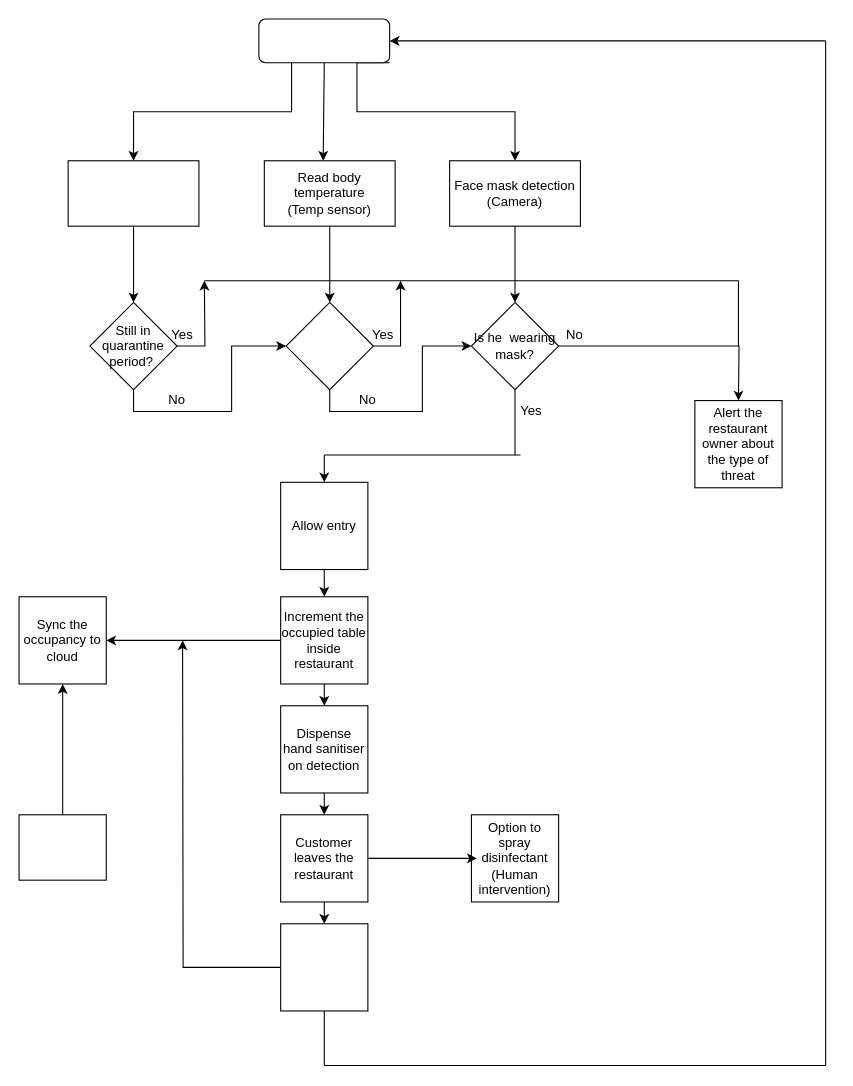
This 853x1086 diagram has some shape labels left out. Here are the shapes that lost their labels. From the top down, the box of each, then its label:
(258, 18, 390, 63): Start customer screening
(67, 160, 199, 226): Swipes health insurance card (RFID reader)
(285, 301, 373, 390): Higher than normal?
(18, 814, 106, 880): User interface to check the occupancy
(280, 923, 368, 1011): Decrement the occupancy count
